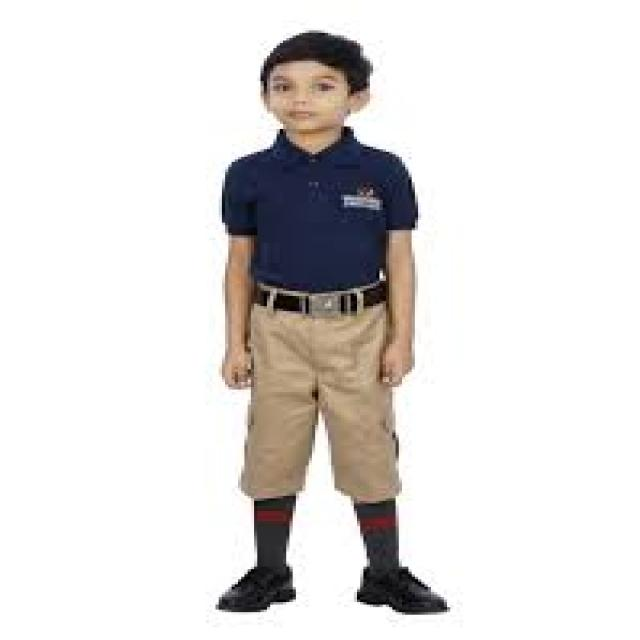child: (212, 20, 473, 630)
